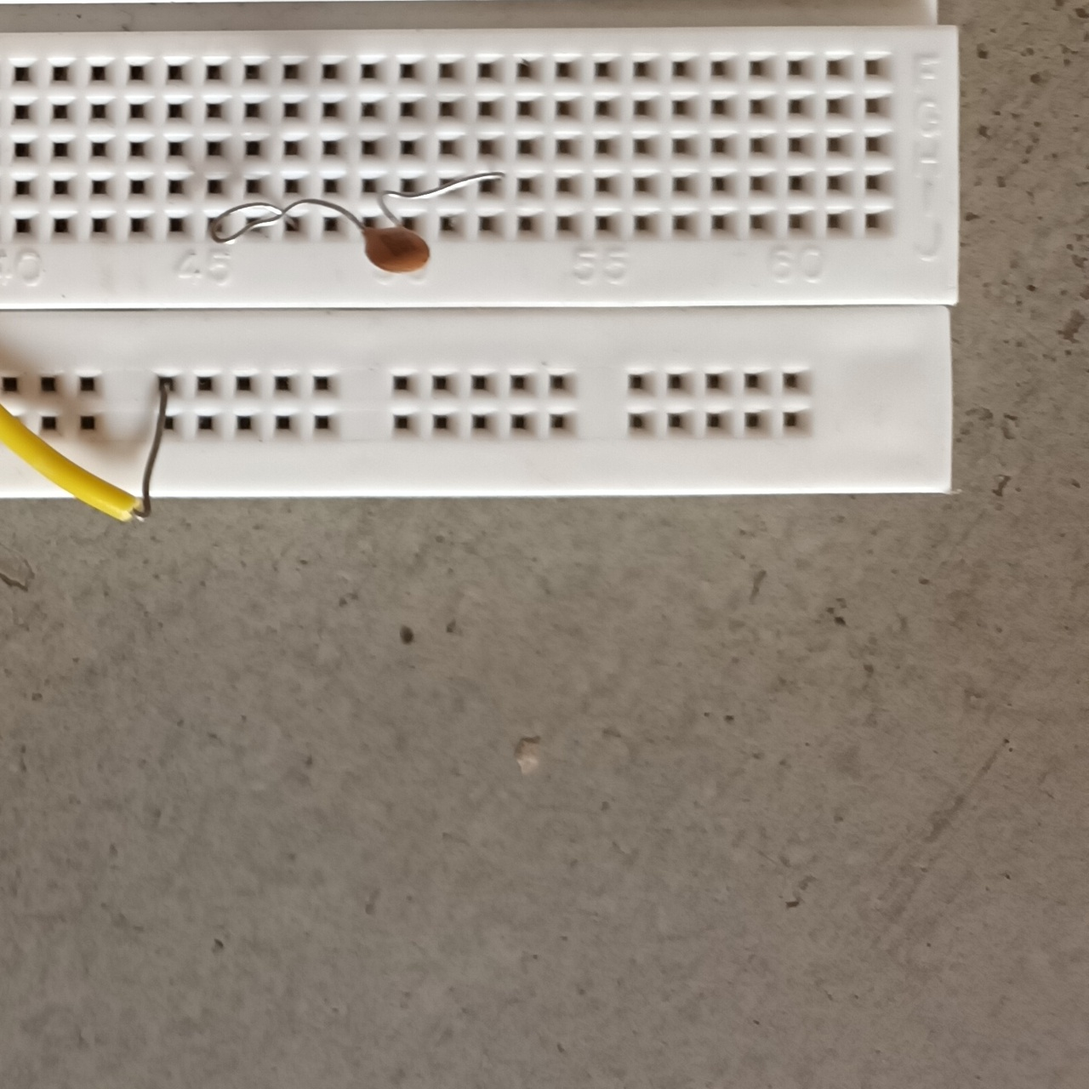capacitor: (361, 221, 434, 278)
